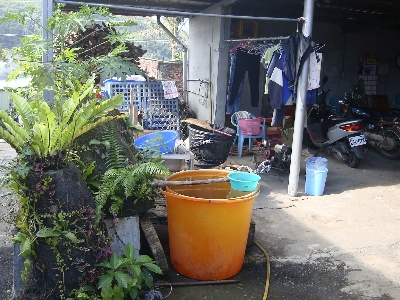bowl: (132, 130, 181, 158), (226, 170, 261, 194)
bucket: (164, 168, 261, 279), (305, 164, 330, 200)
